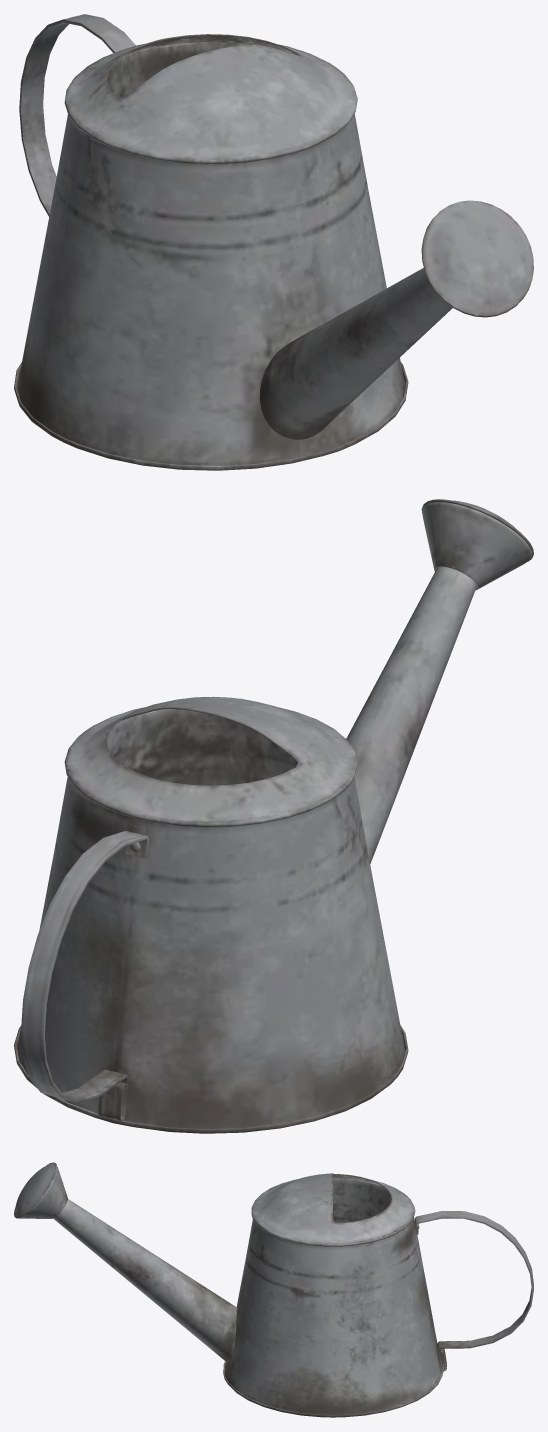
File: watering_can_metal_01.1856715d.glb
3 views of the same model, one above another, from view 1: azimuth 30°, elevation 25°; view 2: azimuth 150°, elevation 25°; view 3: azimuth 270°, elevation 25° (orthographic). The views are drawn at different scales.
Parts seen in each view (by area): view 1: watering_can_metal_01; view 2: watering_can_metal_01; view 3: watering_can_metal_01.
Part boxes in pixels (x1,y1,x2,y2): watering_can_metal_01: (14, 14, 533, 470); watering_can_metal_01: (14, 499, 533, 1133); watering_can_metal_01: (14, 1162, 533, 1417).
Bounding box in the file's own units: 0.304 × 0.3133 × 0.72.
1 material, 1 textured.
